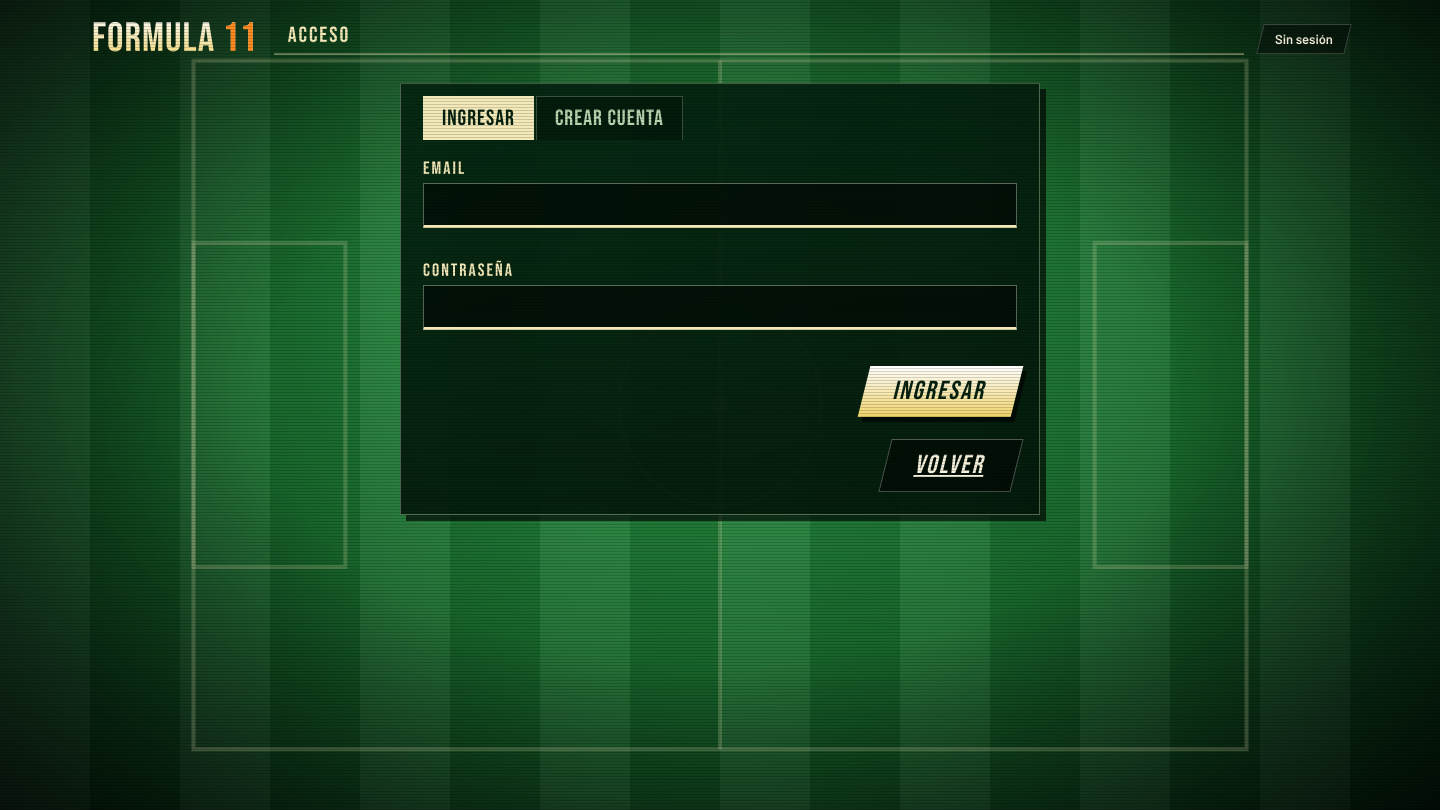
Test case: ingreso › muestra el mensaje del servidor y correlationId para credenciales inválidas
The image size is (1440, 810).
Step 1. Type "invalida@example.com" into the field labelled "Email" → x=720, y=206, box [423, 183, 1017, 228]
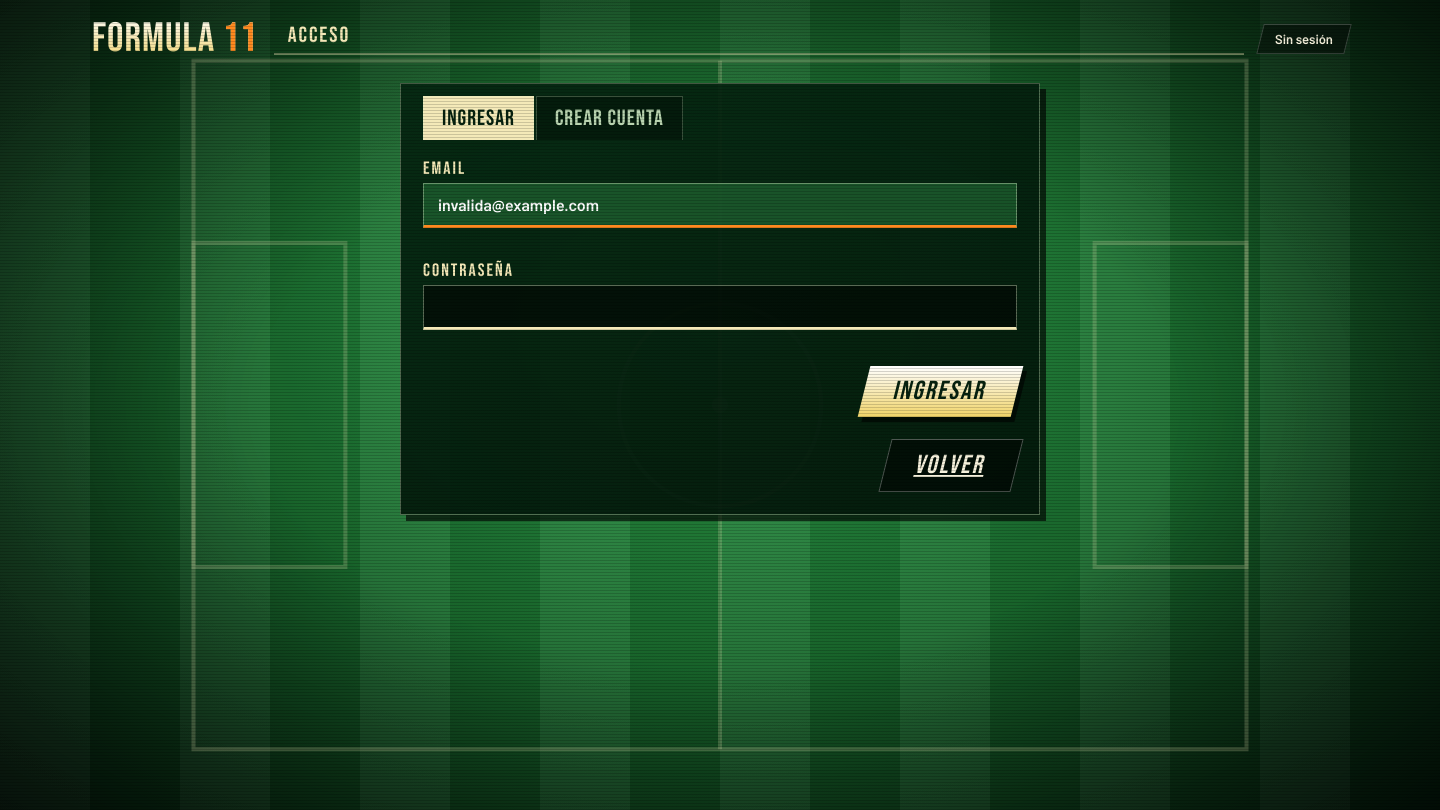
Step 2. Type "Secreto123!" into the password field labelled "Contraseña" → x=720, y=308, box [423, 285, 1017, 330]
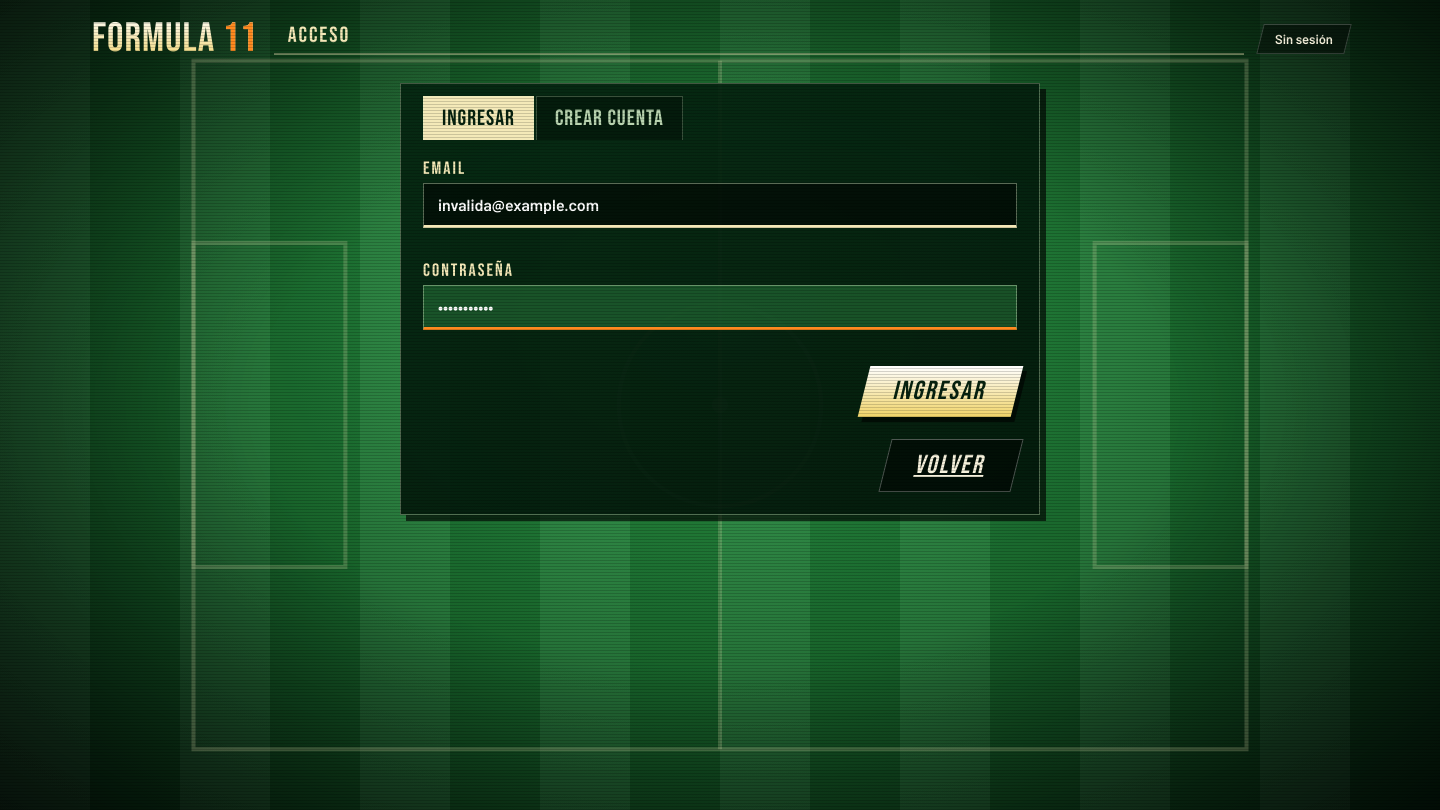
Step 3. Click the button "Ingresar" → x=941, y=392, box [858, 366, 1023, 417]
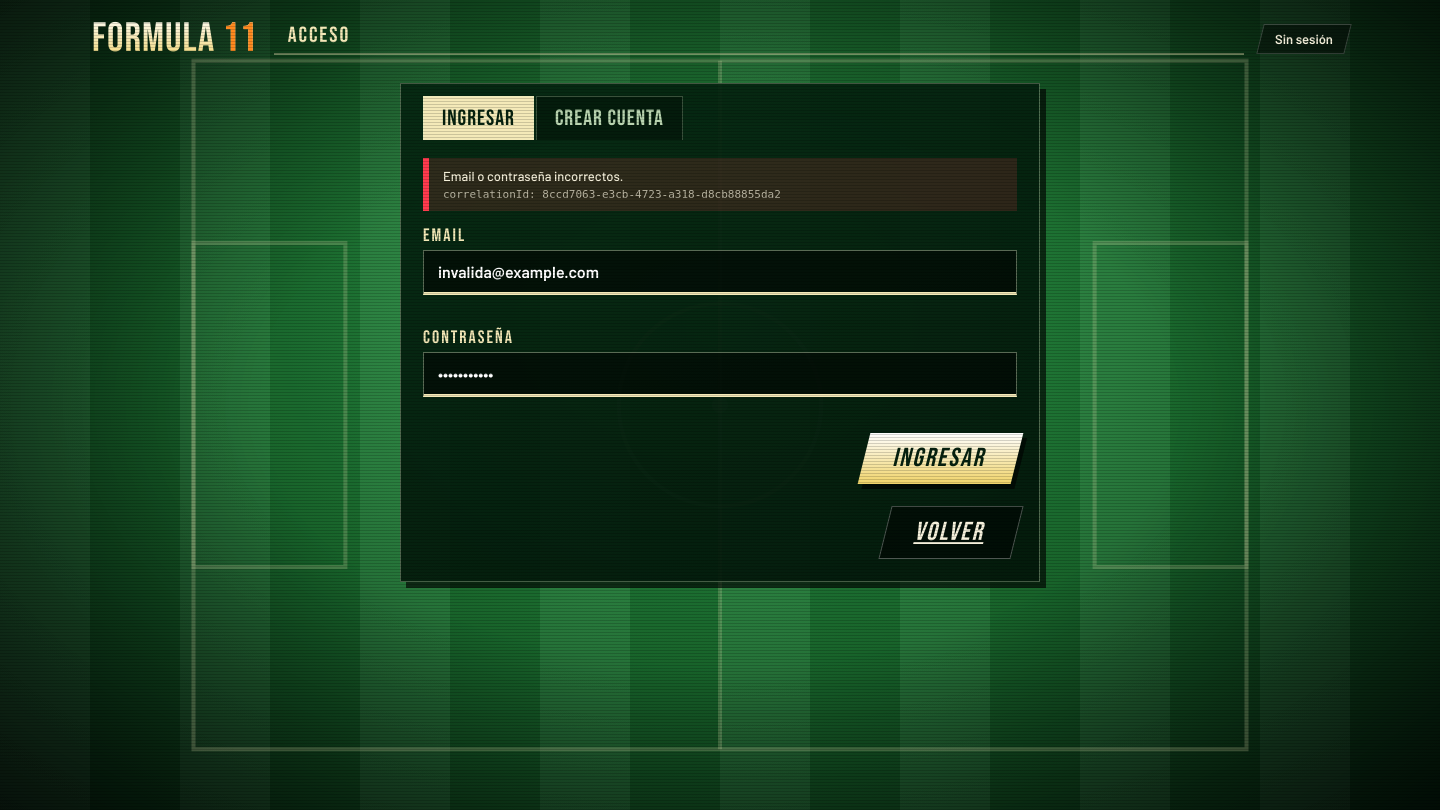
Result: the text "Email o contraseña incorrectos." is shown at [443, 168, 623, 184]
Result: the text "correlationId: 8ccd7063-e3cb-4723-a318-d8cb88855da2" is shown at [443, 188, 781, 201]
